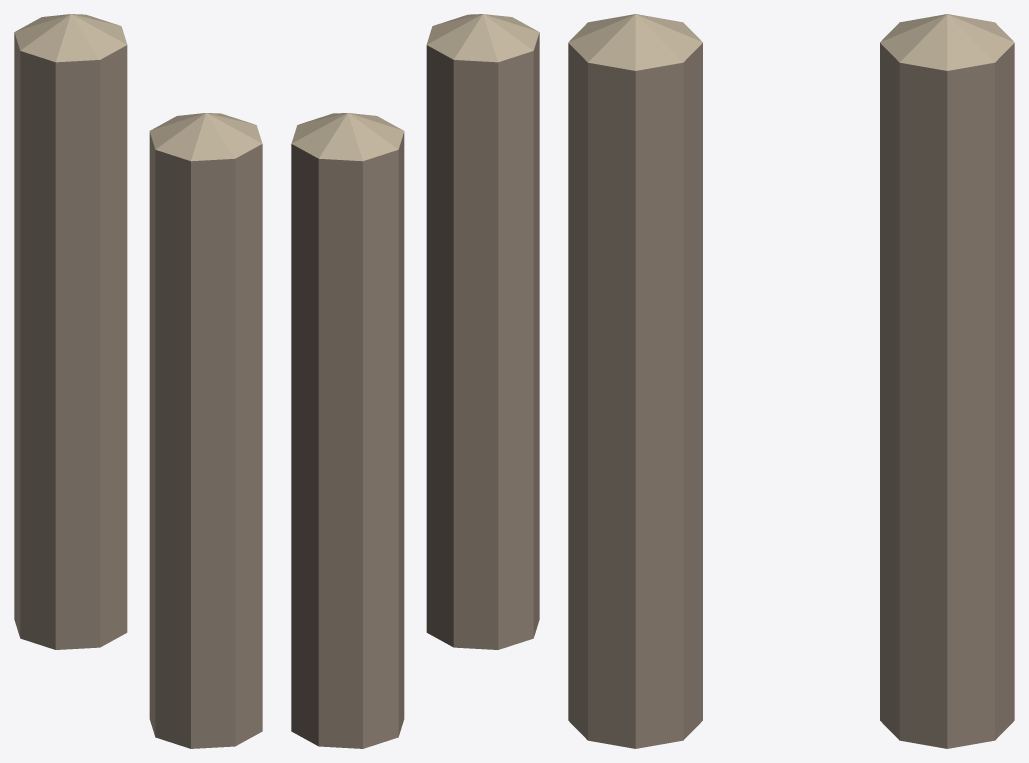
File: Prop_Docks_Straight_Supports.glb
3 renders of one model, left to right at view 1: azimuth 30°, elevation 25°; view 2: azimuth 150°, elevation 25°; view 3: azimuth 270°, elevation 25°, orthographic. The views are drawn at different scales.
Visible parts, largest first — view 1: Prop_Docks_Straight_Supports_Merged; view 2: Prop_Docks_Straight_Supports_Merged; view 3: Prop_Docks_Straight_Supports_Merged.
Boxes of the visible parts, x1,y1,x2,y2 form: Prop_Docks_Straight_Supports_Merged: (14, 14, 262, 748); Prop_Docks_Straight_Supports_Merged: (291, 14, 539, 748); Prop_Docks_Straight_Supports_Merged: (568, 14, 1014, 748).
Size of the model in its own units: 0.2165 by 1.25 by 0.7165.
